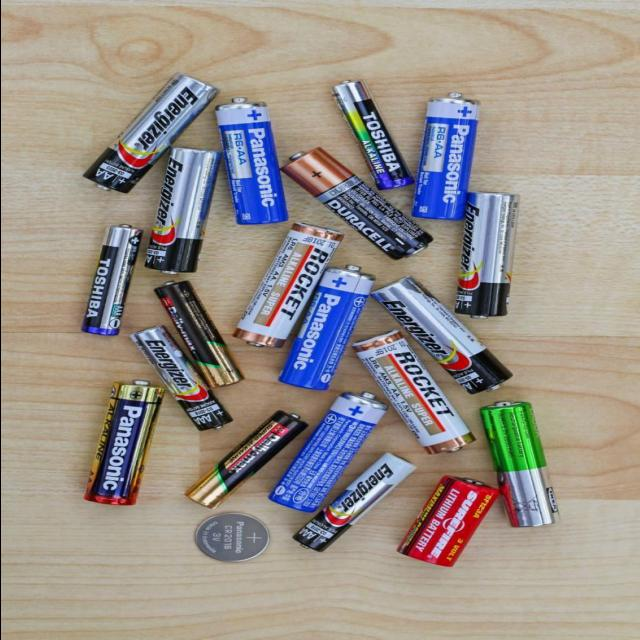AA: (275, 145, 439, 265), (365, 273, 516, 398), (79, 70, 223, 196), (347, 328, 478, 458), (262, 391, 391, 516), (229, 220, 348, 350), (286, 449, 422, 555), (179, 407, 311, 511), (273, 263, 378, 393), (123, 323, 236, 435), (79, 377, 167, 510), (475, 398, 562, 531), (323, 78, 419, 194), (140, 145, 224, 277), (149, 279, 248, 391), (211, 96, 291, 228), (407, 90, 482, 223), (451, 189, 522, 322), (77, 221, 145, 338)
COIN: (191, 511, 270, 563)
